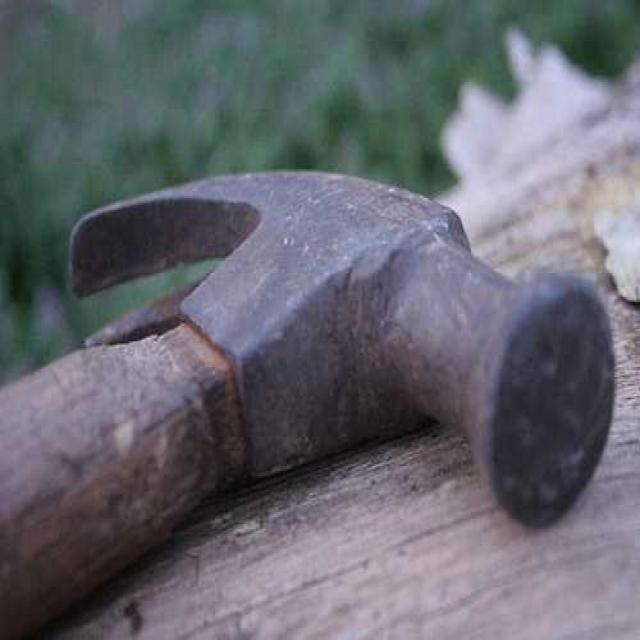hammer: (0, 158, 619, 640)
